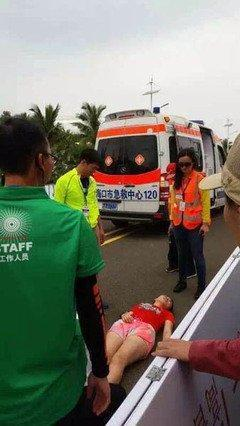Fall-Detected: (95, 283, 176, 396)
